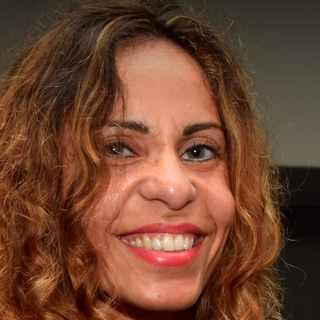eye: (178, 139, 223, 166), (98, 138, 142, 163)
